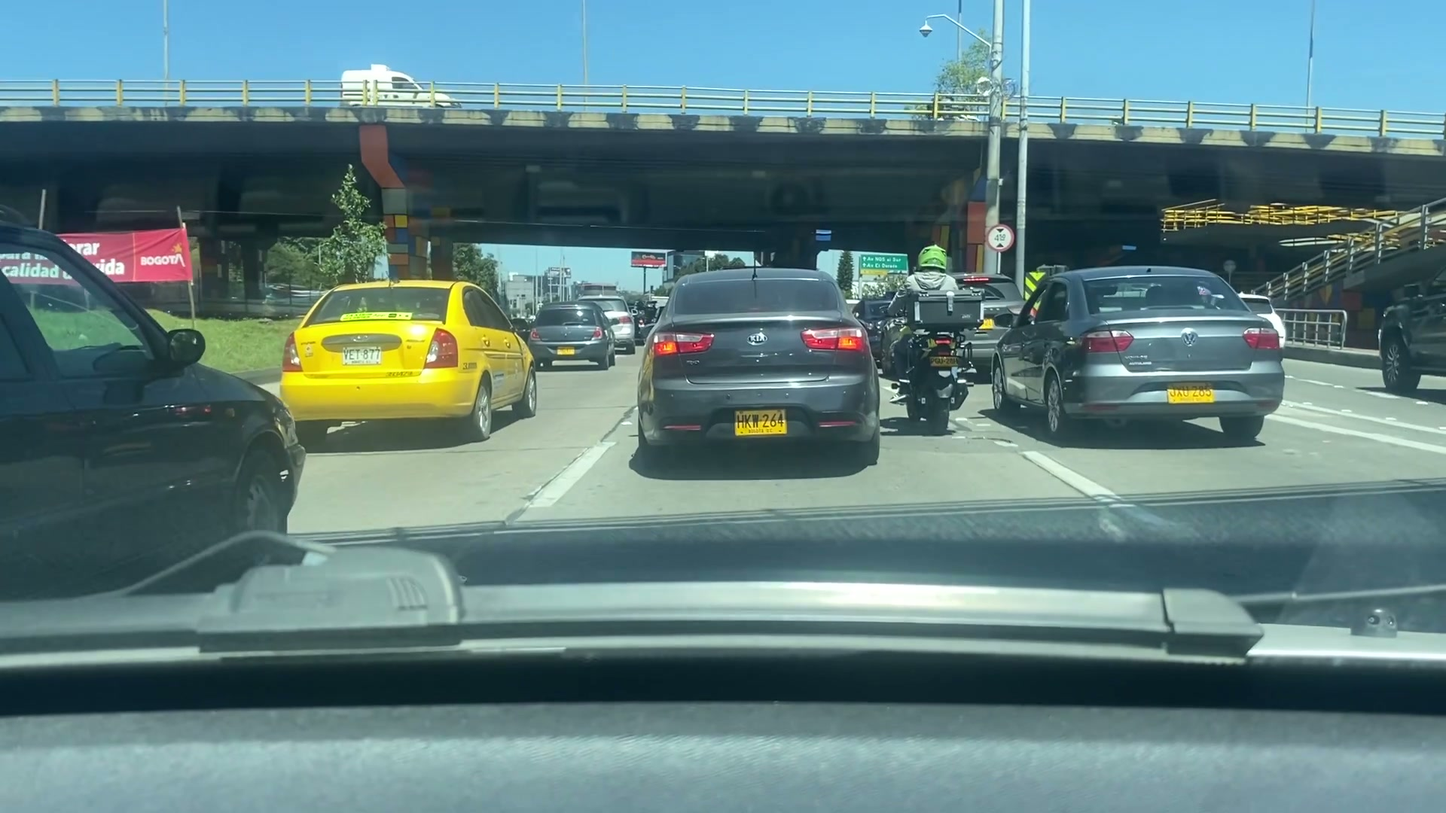car: (0, 225, 309, 594), (990, 266, 1287, 441), (635, 269, 883, 459), (283, 281, 542, 443), (1375, 257, 1446, 394), (945, 270, 1027, 371), (525, 302, 619, 369), (576, 297, 638, 355)
motorcycle: (892, 332, 977, 434)
person: (890, 244, 969, 404)
